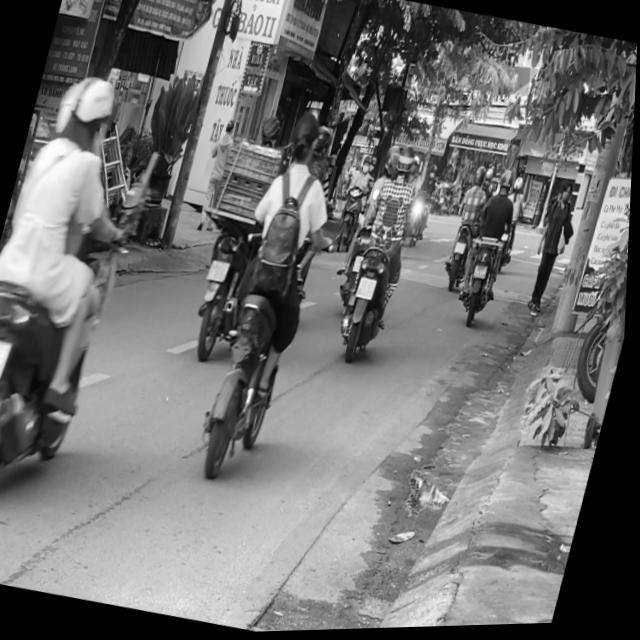helmet: (61, 70, 122, 153), (392, 144, 422, 186), (383, 150, 403, 179)
licenseplate: (0, 56, 166, 515), (186, 98, 359, 489), (328, 140, 435, 368)
motorcyclist: (284, 108, 326, 171)
nohelmet: (0, 333, 14, 382), (207, 258, 231, 282), (356, 276, 379, 301)
